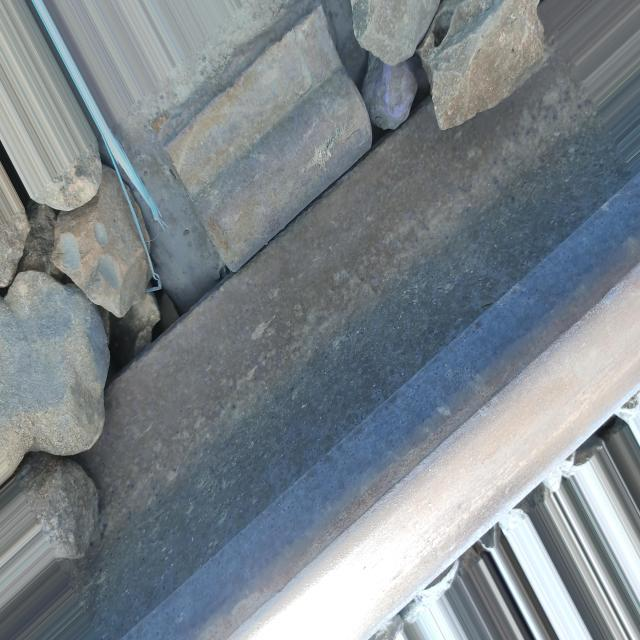Missing Fastener: (157, 3, 392, 295)
